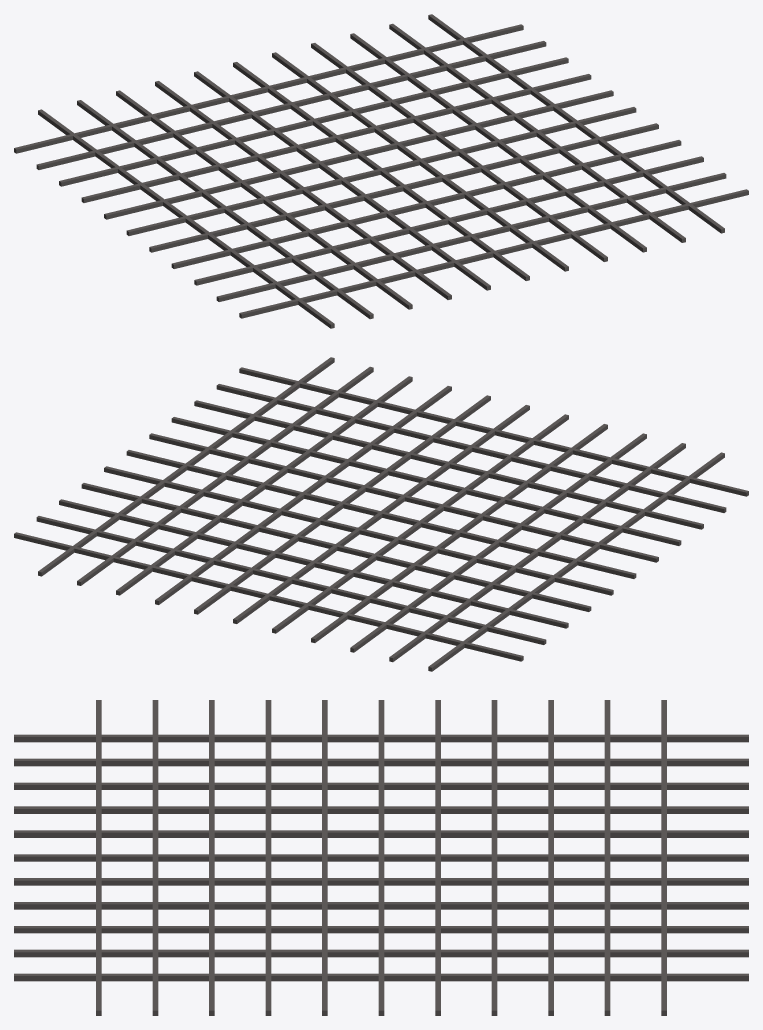
Rendered from reshetka.fbx.
3 views of the same model, one above another, from view 1: azimuth 30°, elevation 25°; view 2: azimuth 150°, elevation 25°; view 3: azimuth 270°, elevation 25° (orthographic). The views are drawn at different scales.
Parts seen in each view (by area): view 1: Reshetka; view 2: Reshetka; view 3: Reshetka.
Part boxes in pixels (x1=…): Reshetka: x1=14, y1=14, x2=748, y2=328; Reshetka: x1=14, y1=357, x2=748, y2=671; Reshetka: x1=14, y1=700, x2=748, y2=1015.
Bounding box in the file's own units: 130 × 1 × 130.
